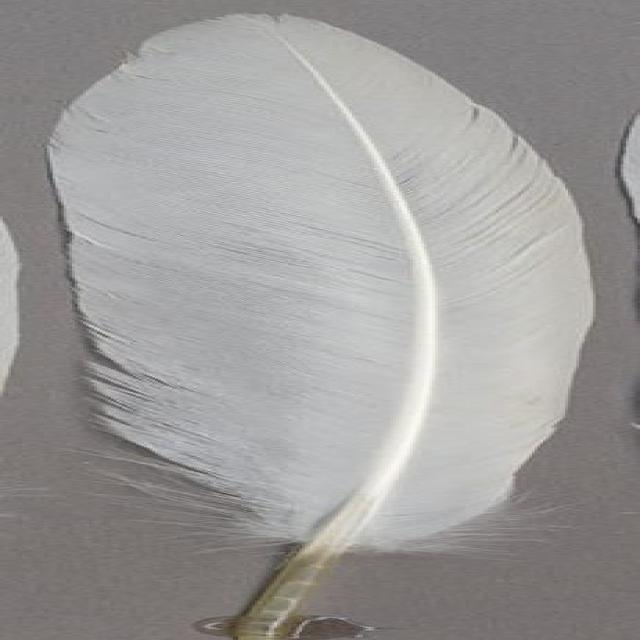feather: (60, 10, 609, 640)
